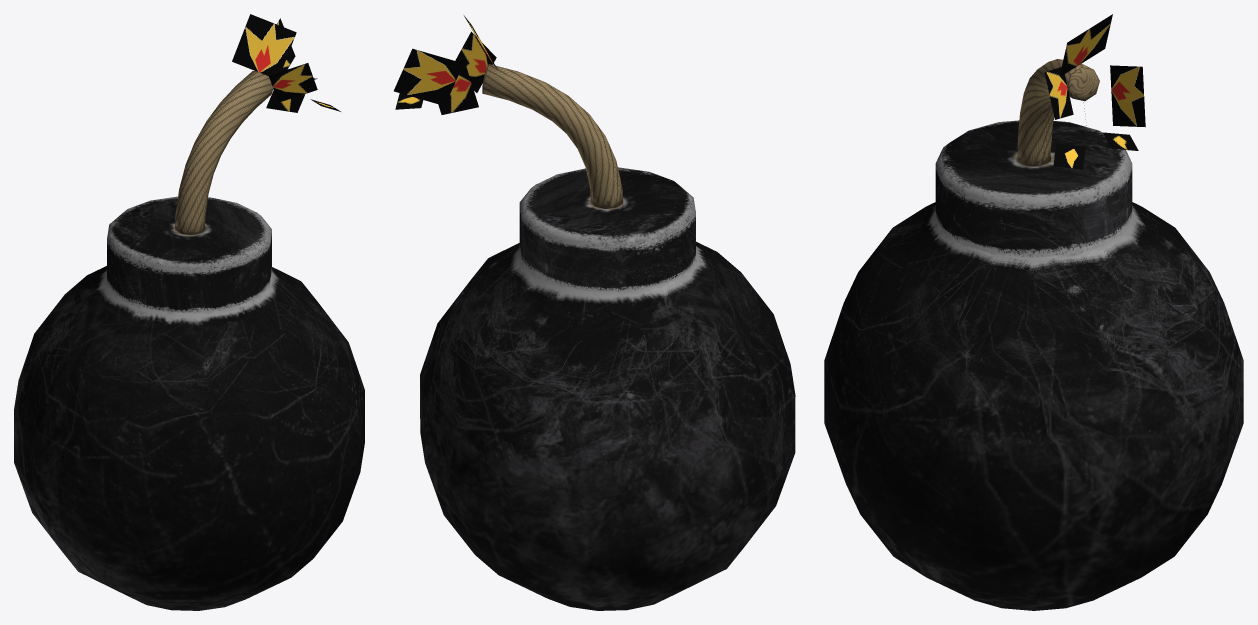
Rendered from bomb.glb.
3 renders of one model, left to right at view 1: azimuth 30°, elevation 25°; view 2: azimuth 150°, elevation 25°; view 3: azimuth 270°, elevation 25°, orthographic. The views are drawn at different scales.
Visible parts, largest first — view 1: Sphere, NurbsPath, Plane_5001; view 2: Sphere, NurbsPath, Plane_5001; view 3: Sphere, Plane_5001, NurbsPath.
Boxes of the visible parts, left/top/right/bottom form: Sphere: left=14, top=196, right=364, bottom=610; NurbsPath: left=175, top=71, right=273, bottom=234; Plane_5001: left=232, top=14, right=340, bottom=112; Sphere: left=420, top=167, right=795, bottom=610; NurbsPath: left=482, top=64, right=622, bottom=208; Plane_5001: left=394, top=15, right=497, bottom=114; Sphere: left=824, top=120, right=1243, bottom=610; Plane_5001: left=1044, top=14, right=1145, bottom=169; NurbsPath: left=1017, top=59, right=1099, bottom=165.
Size of the model in its own units: 0.7716 by 1.22 by 0.7506.
1 material, 1 textured.
